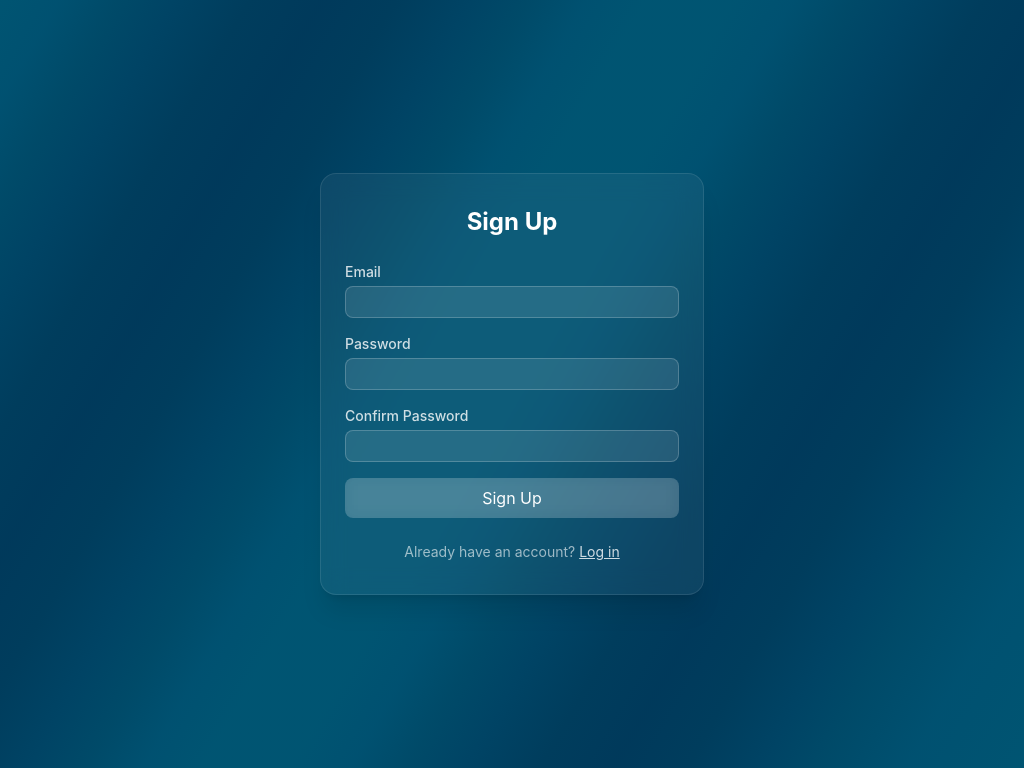
Test: SignupPage › shows error when passwords do not match
In the field labelled "Email": coordinates (512, 302) x1=345 y1=286 x2=679 y2=318, type "new@example.com"
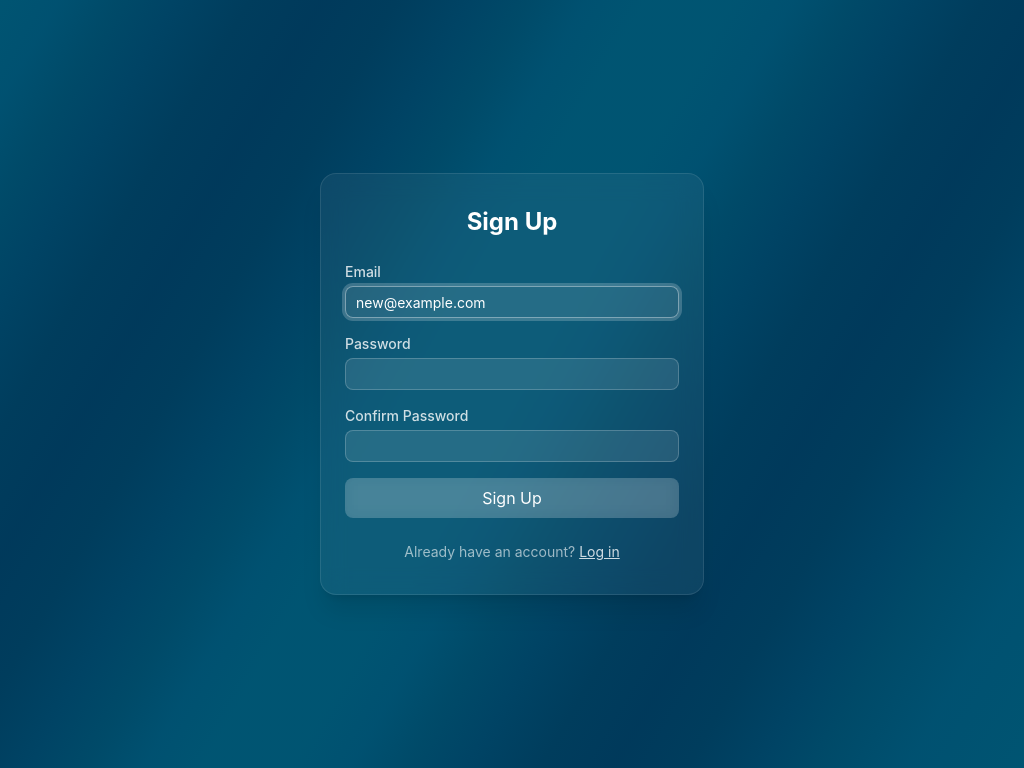
In the password field labelled "Password": coordinates (512, 374) x1=345 y1=358 x2=679 y2=390, type "password123"
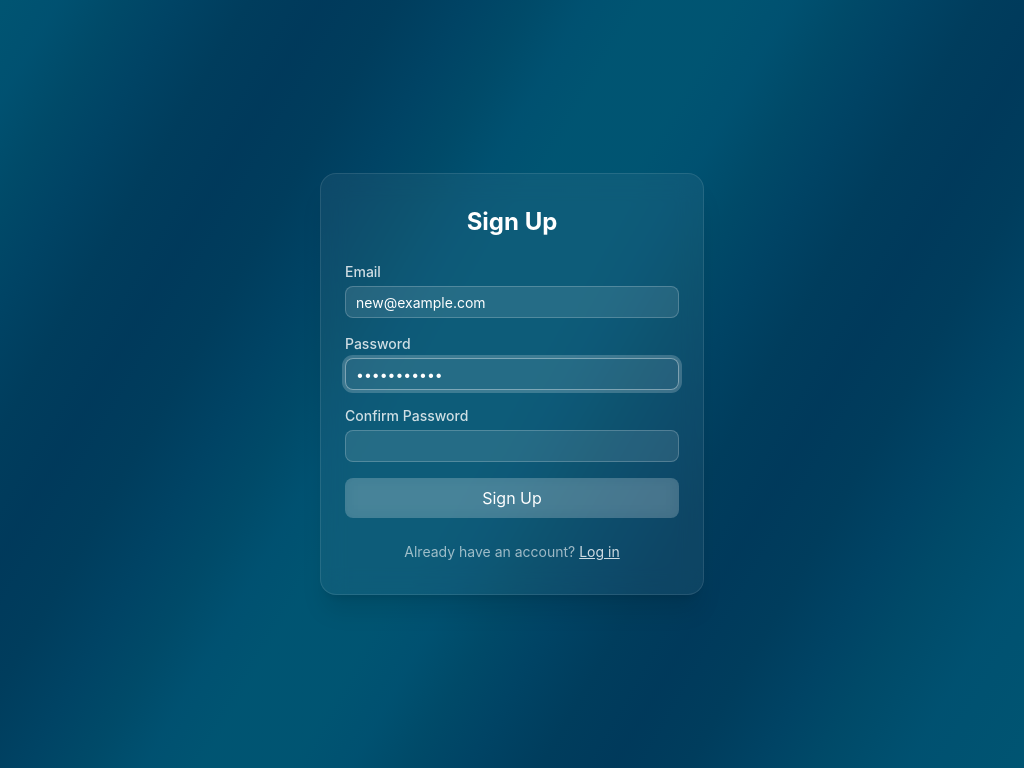
In the password field labelled "Confirm Password": coordinates (512, 446) x1=345 y1=430 x2=679 y2=462, type "different"
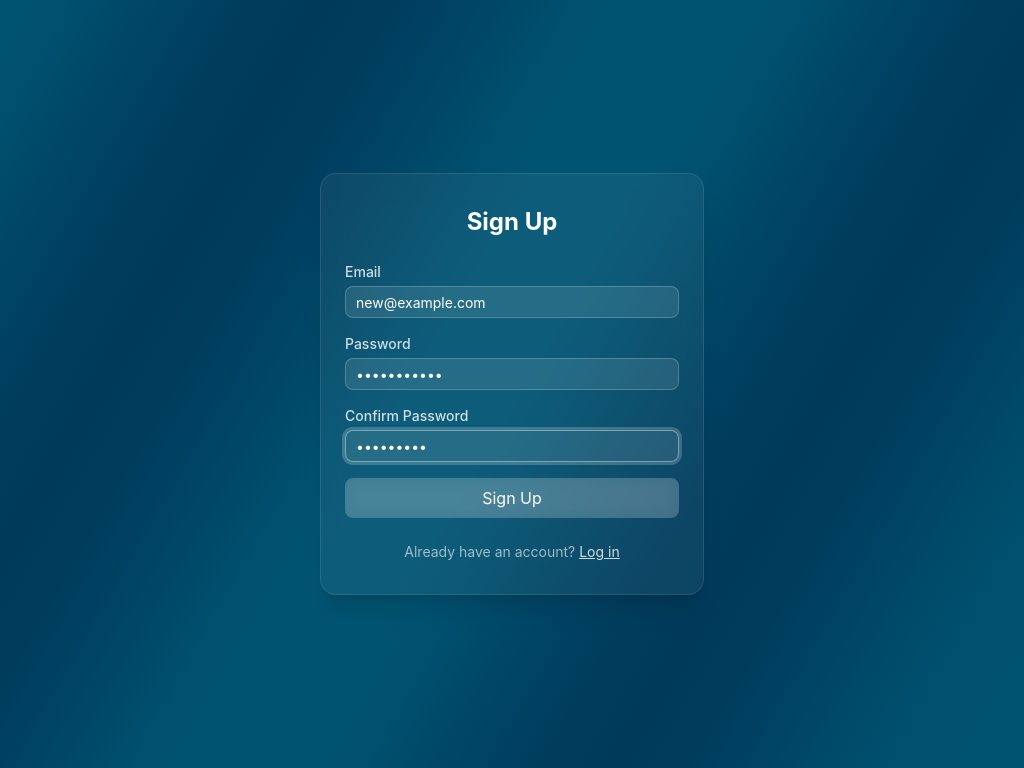
Click the button "Sign Up": coordinates (512, 498) x1=345 y1=478 x2=679 y2=518
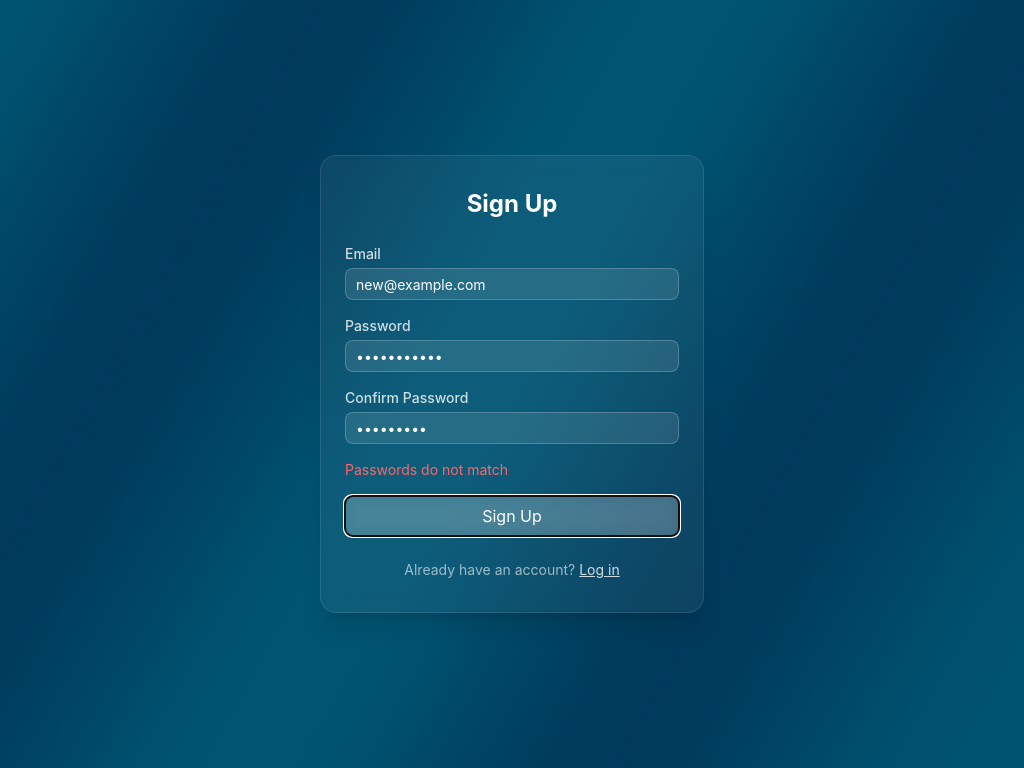
Expected: the text "Passwords do not match" is shown, x1=345 y1=461 x2=508 y2=478
